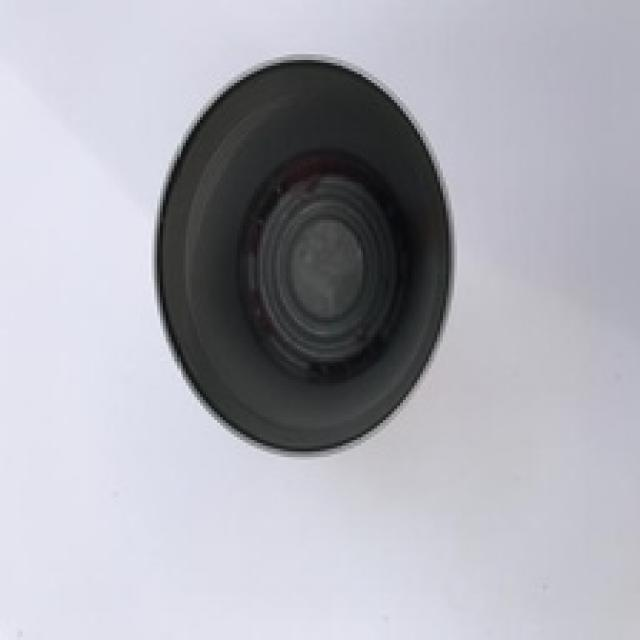recyclable: (150, 58, 455, 456)
